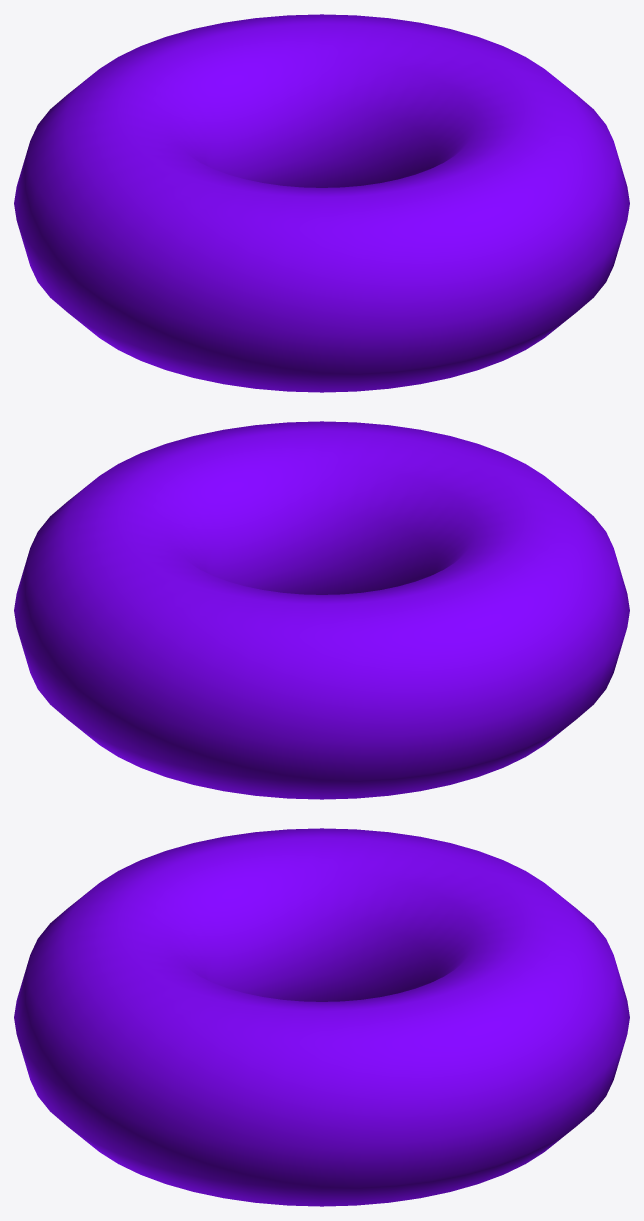
The picture shows the model from 3 angles, top to bottom: view 1: azimuth 30°, elevation 25°; view 2: azimuth 150°, elevation 25°; view 3: azimuth 270°, elevation 25°; orthographic projection.
Visible parts, largest first — view 1: torus; view 2: torus; view 3: torus.
Part boxes in pixels (<box>): torus: <box>14,14,629,392</box>; torus: <box>14,421,629,799</box>; torus: <box>14,828,629,1206</box>.
Bounding box in the file's own units: 200 × 66.67 × 200.
